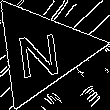N_N: (17, 24, 66, 79)
